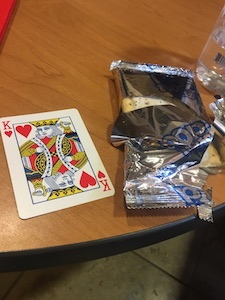KingOfHearts: (1, 106, 117, 222)
